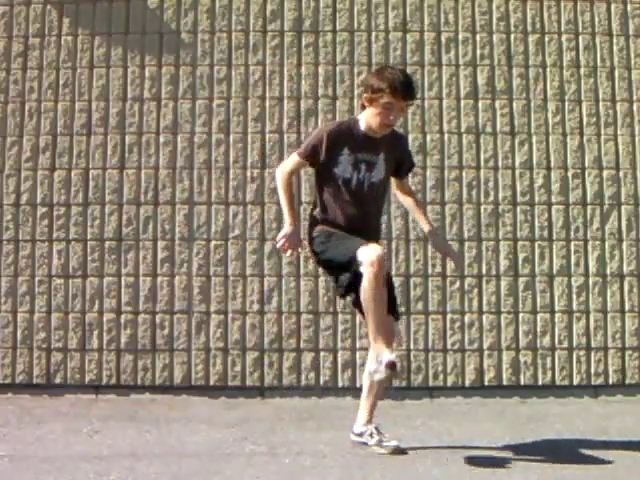person: (275, 66, 463, 455)
